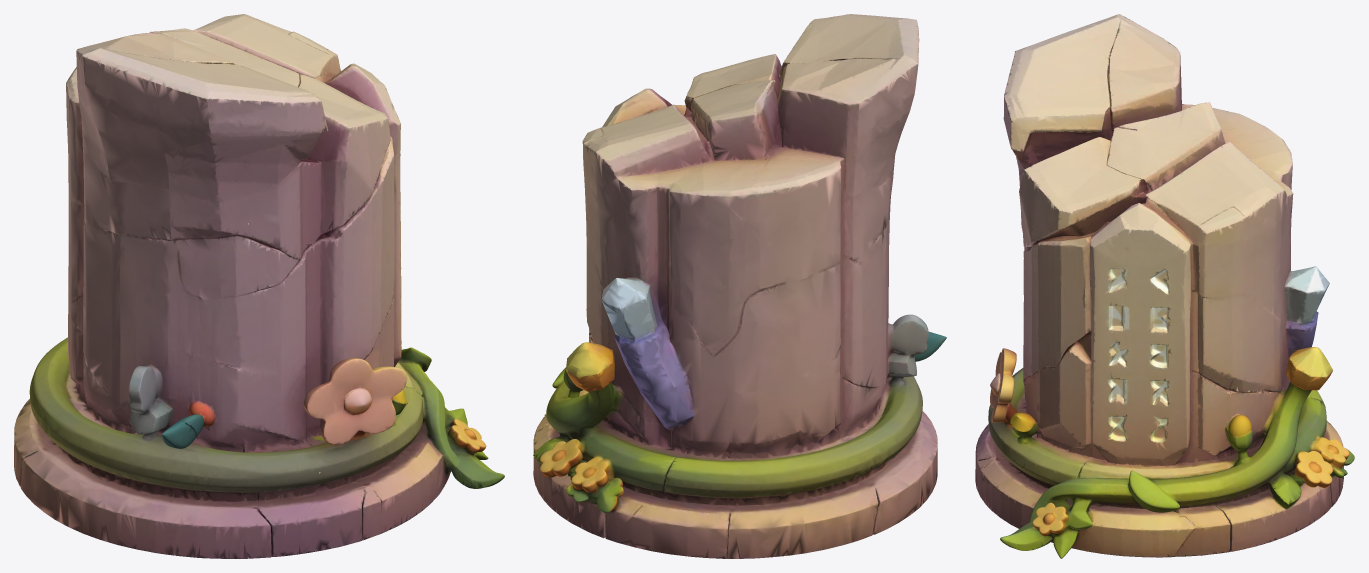
The model's file is cover_ruin.glb.
3 views of the same model, side by side, from view 1: azimuth 30°, elevation 25°; view 2: azimuth 150°, elevation 25°; view 3: azimuth 270°, elevation 25° (orthographic). The views are drawn at different scales.
Visible parts, largest first — view 1: tripo_node_94aa40b0-0cea-4b6c-bc52-02c8ee0ec1b9; view 2: tripo_node_94aa40b0-0cea-4b6c-bc52-02c8ee0ec1b9; view 3: tripo_node_94aa40b0-0cea-4b6c-bc52-02c8ee0ec1b9.
Part boxes in pixels (<box>): tripo_node_94aa40b0-0cea-4b6c-bc52-02c8ee0ec1b9: <box>14,14,504,558</box>; tripo_node_94aa40b0-0cea-4b6c-bc52-02c8ee0ec1b9: <box>533,14,946,558</box>; tripo_node_94aa40b0-0cea-4b6c-bc52-02c8ee0ec1b9: <box>975,14,1354,558</box>.
Size of the model in its own units: 0.8494 by 0.9972 by 0.8612.
1 material, 1 textured.
